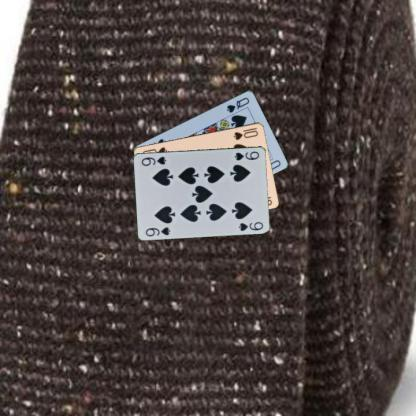10s: (231, 125, 260, 141)
9s: (143, 224, 172, 238), (232, 149, 260, 161)
Qs: (224, 94, 251, 114)
